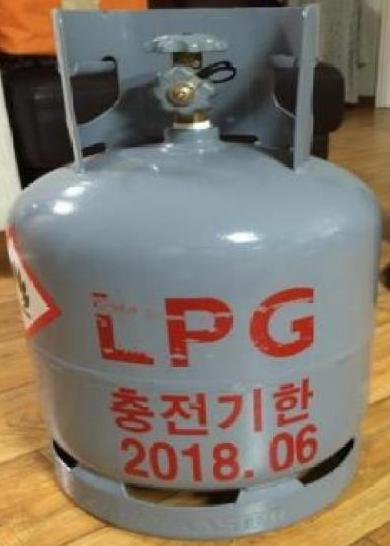cylinder: (1, 0, 390, 546)
